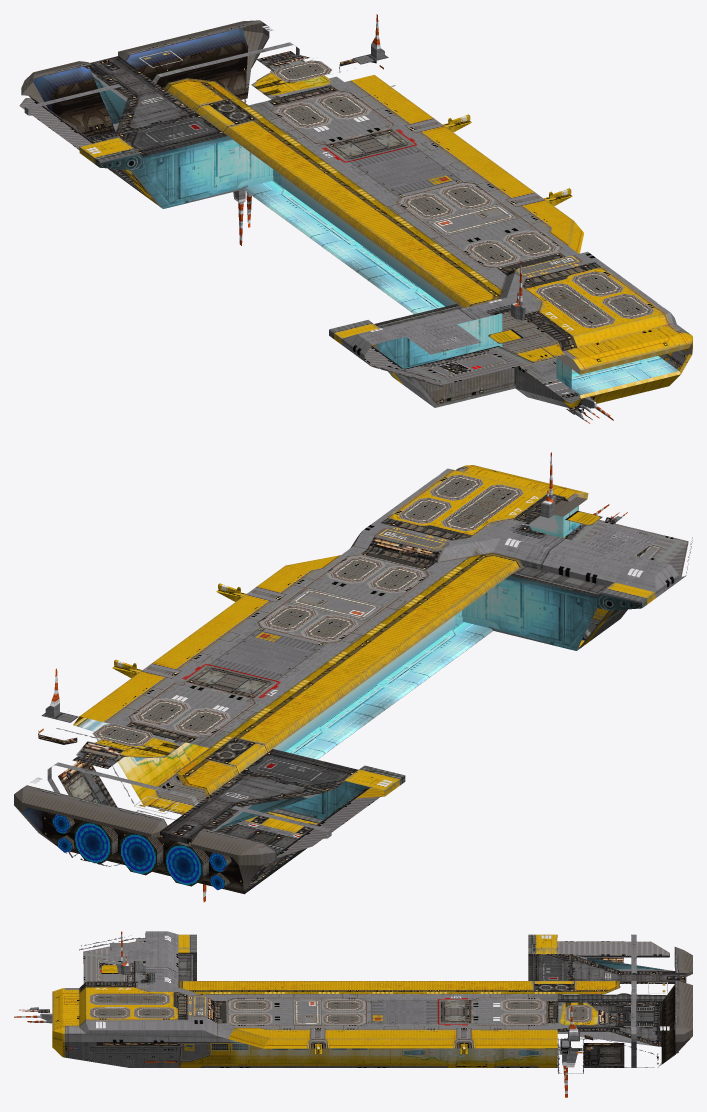
3 renders of one model, top to bottom at view 1: azimuth 30°, elevation 25°; view 2: azimuth 150°, elevation 25°; view 3: azimuth 270°, elevation 25°, orthographic. The views are drawn at different scales.
Visible parts, largest first — view 1: A_TEX, B_TEX, Hgn_Engine, Badge; view 2: A_TEX, B_TEX, Hgn_Burner, Badge; view 3: A_TEX, B_TEX, Badge.
Part boxes in pixels (x1=…): A_TEX: x1=19, y1=14, x2=692, y2=423; B_TEX: x1=132, y1=60, x2=691, y2=398; Hgn_Engine: x1=33, y1=28, x2=247, y2=111; Badge: x1=401, y1=321, x2=481, y2=354; A_TEX: x1=14, y1=452, x2=692, y2=902; B_TEX: x1=73, y1=474, x2=597, y2=819; Hgn_Burner: x1=52, y1=814, x2=226, y2=890; Badge: x1=578, y1=524, x2=660, y2=559; A_TEX: x1=14, y1=931, x2=692, y2=1097; B_TEX: x1=90, y1=993, x2=592, y2=1048; Badge: x1=110, y1=943, x2=152, y2=960.
Bounding box in the file's own units: 799 × 507 × 1994.
